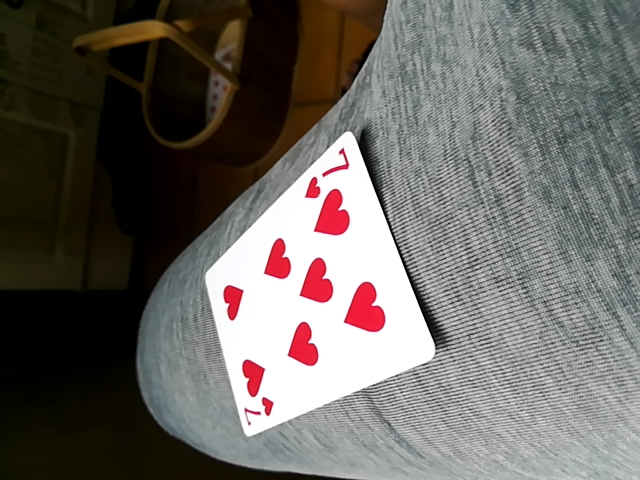hx 7: (201, 128, 434, 442)
